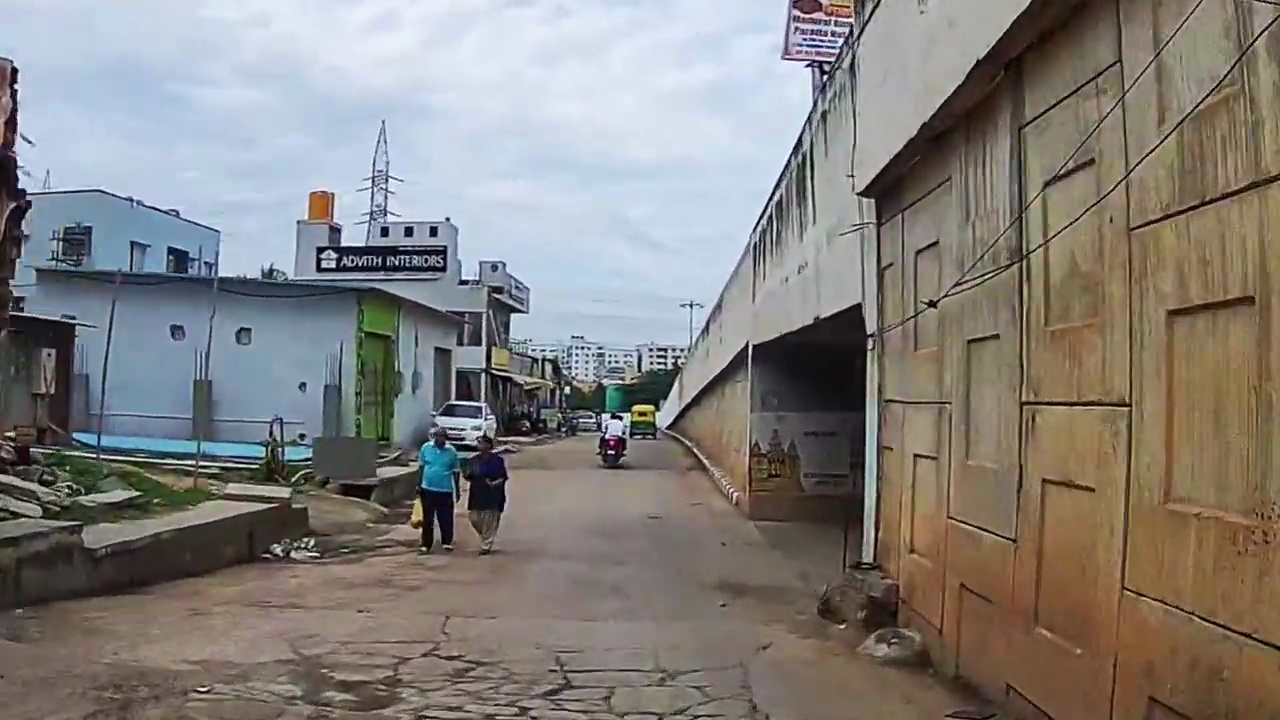garbage: (268, 539, 326, 562)
